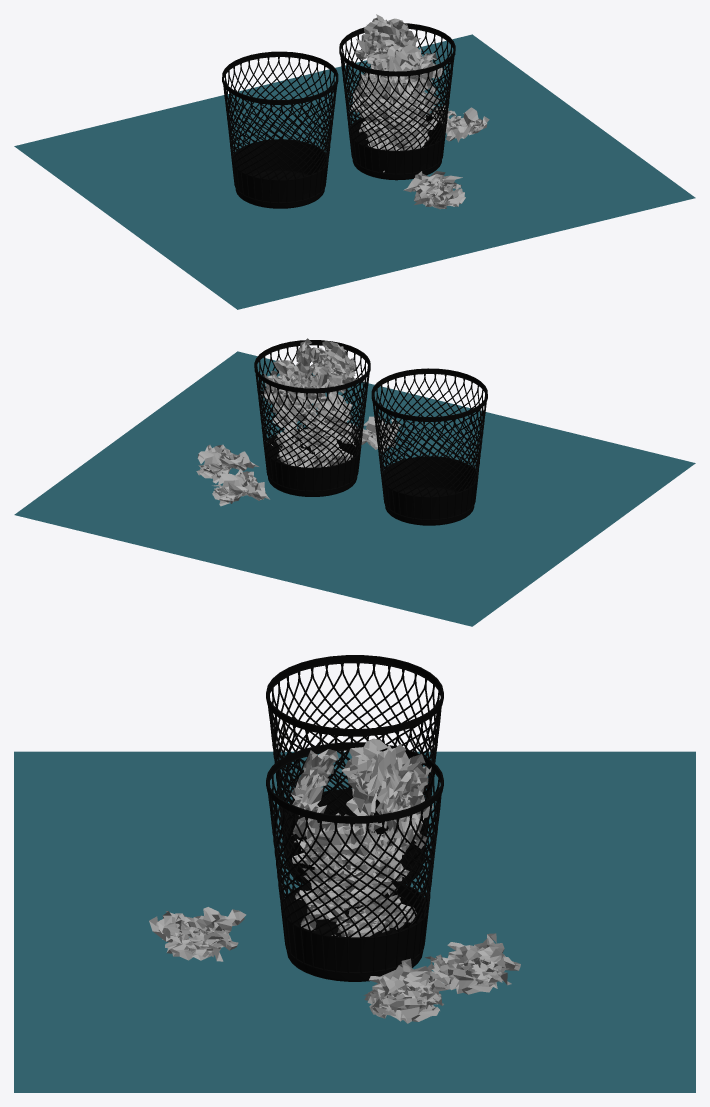
The model's file is trash_can_waste_paper1.glb.
3 views of the same model, one above another, from view 1: azimuth 30°, elevation 25°; view 2: azimuth 150°, elevation 25°; view 3: azimuth 270°, elevation 25° (orthographic). The views are drawn at different scales.
Visible parts, largest first — view 1: Plane, Cylinder, Cube, Cylinder_006_0, Cylinder_006_1; view 2: Plane, Cylinder, Cube, Cylinder_006_0, Cylinder_006_1; view 3: Plane, Cube, Cylinder_006_0, Cylinder, Cylinder_006_1.
Boxes of the visible parts, x1,y1,x2,y2 form: Plane: [14, 34, 695, 309]; Cylinder: [222, 51, 338, 208]; Cube: [350, 14, 489, 209]; Cylinder_006_0: [340, 28, 454, 174]; Cylinder_006_1: [339, 23, 455, 180]; Plane: [14, 351, 695, 626]; Cylinder: [371, 368, 487, 525]; Cube: [196, 338, 400, 506]; Cylinder_006_0: [255, 344, 369, 491]; Cylinder_006_1: [254, 340, 370, 496]; Plane: [14, 751, 695, 1092]; Cube: [149, 738, 520, 1023]; Cylinder_006_0: [268, 749, 441, 973]; Cylinder: [266, 655, 443, 884]; Cylinder_006_1: [266, 742, 443, 981].
Size of the model in its own units: 9.29 by 2.69 by 7.85.
